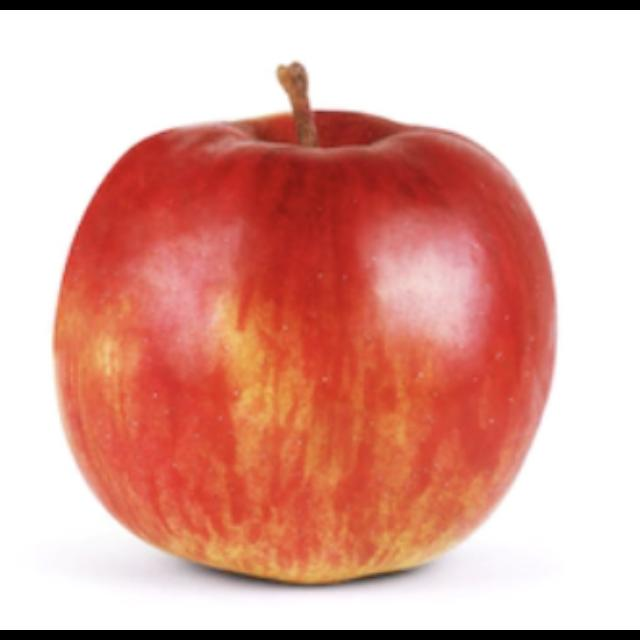Apel Segar: (54, 100, 558, 598)
